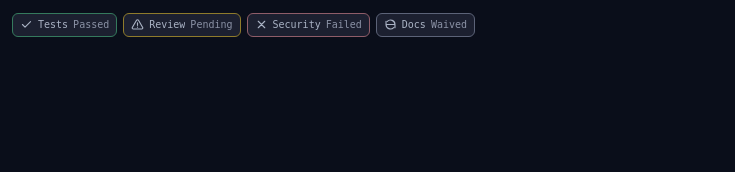
GateStrip › expands a chip to show reason and verification provenance
This screenshot has width=735, height=172.
Step 1. Click the button "Review Pending" → (182, 25), box 123,13 -> 240,37
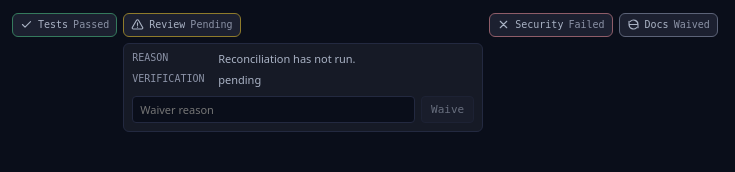
Now the text "Reconciliation has not run." is shown, box 218,51 -> 356,66
Now the text "pending" is shown, box 218,72 -> 261,87
